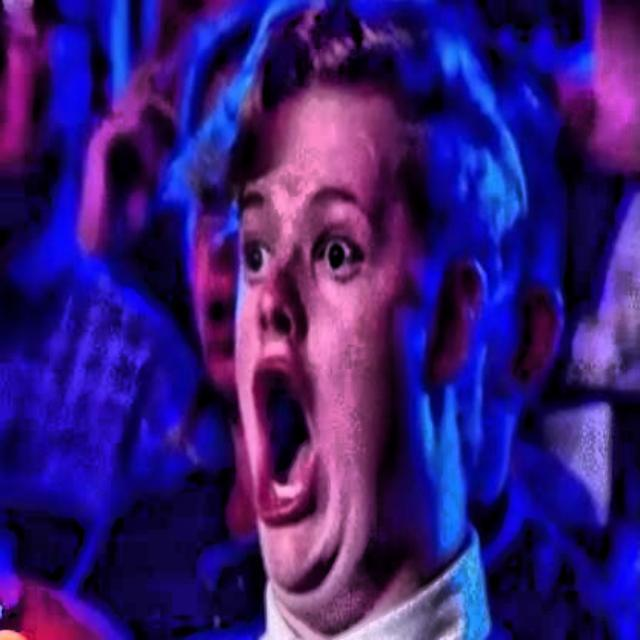surprised: (210, 1, 500, 628)
